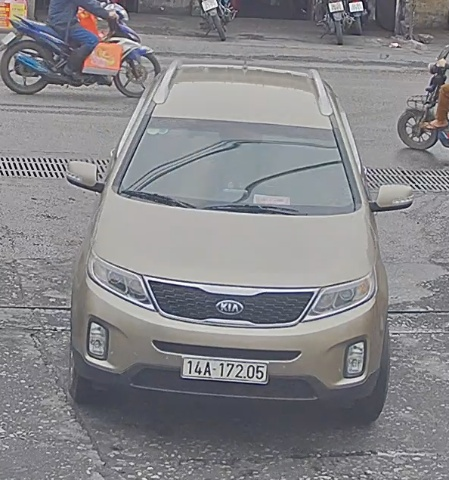vehicle plate: (177, 350, 269, 385)
